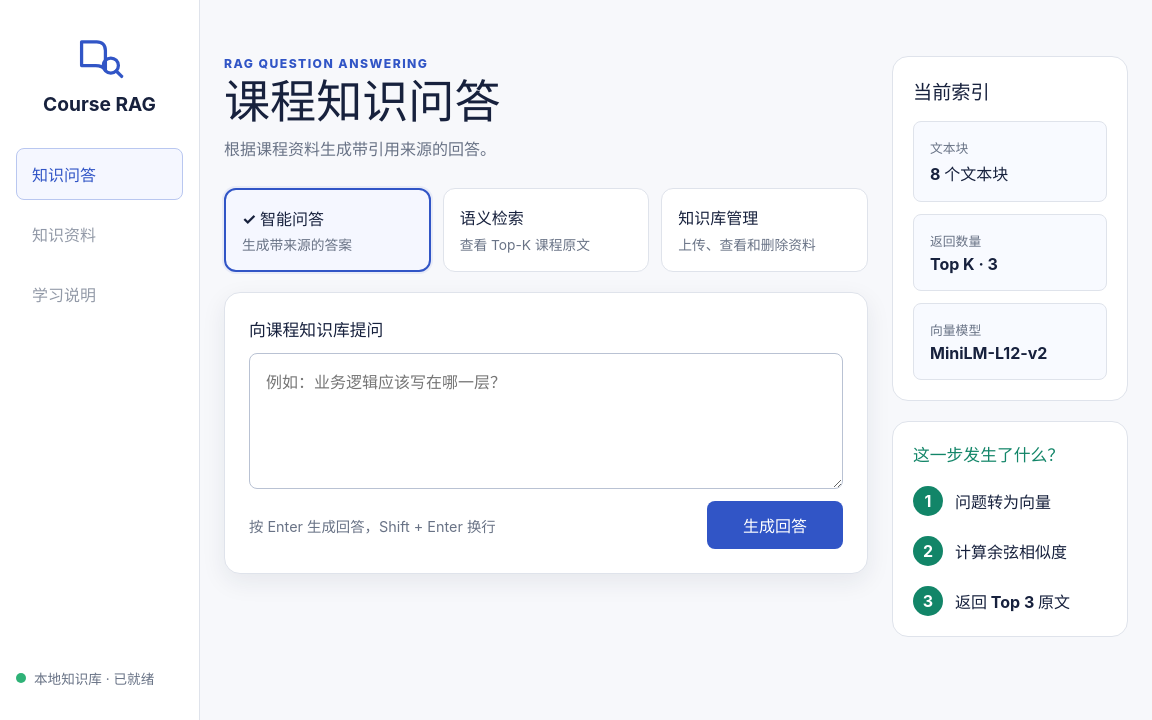
Test: App › shows the 503 guidance and allows switching to retrieval
The width and height of the screenshot is (1152, 720).
Step 1. Type "问题" into the text box labelled "向课程知识库提问" → x=546, y=421, box [249,353,843,489]
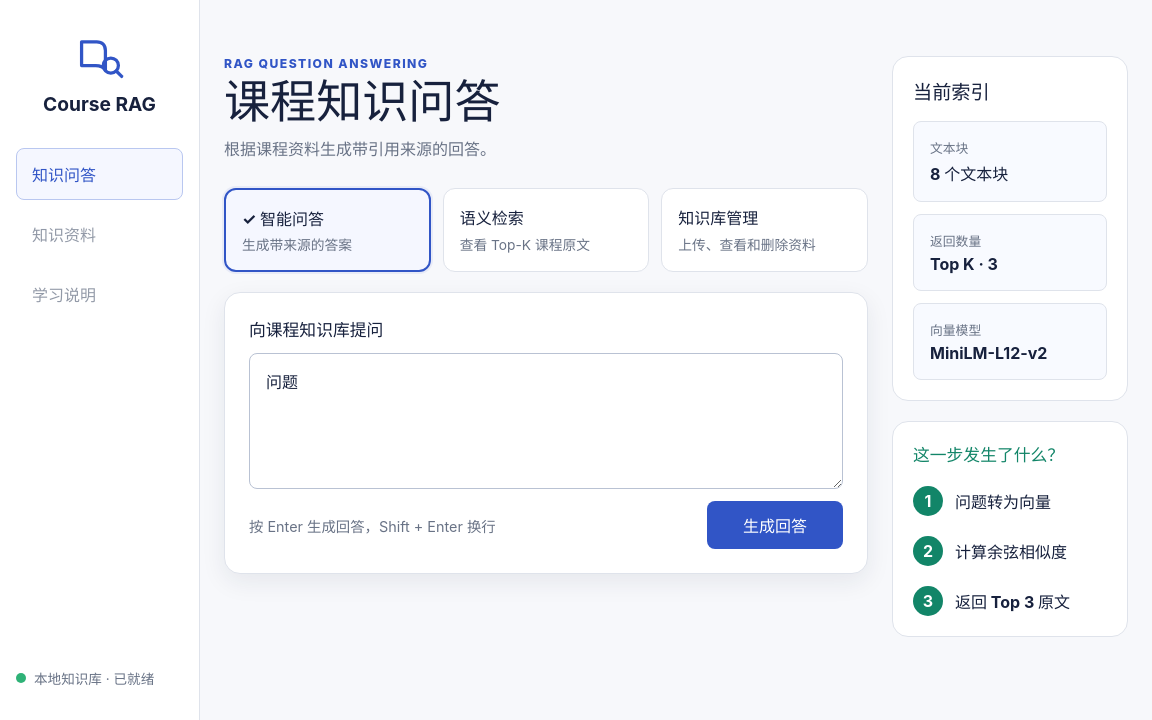
Step 2. Submit the form, box [224,292,868,574]
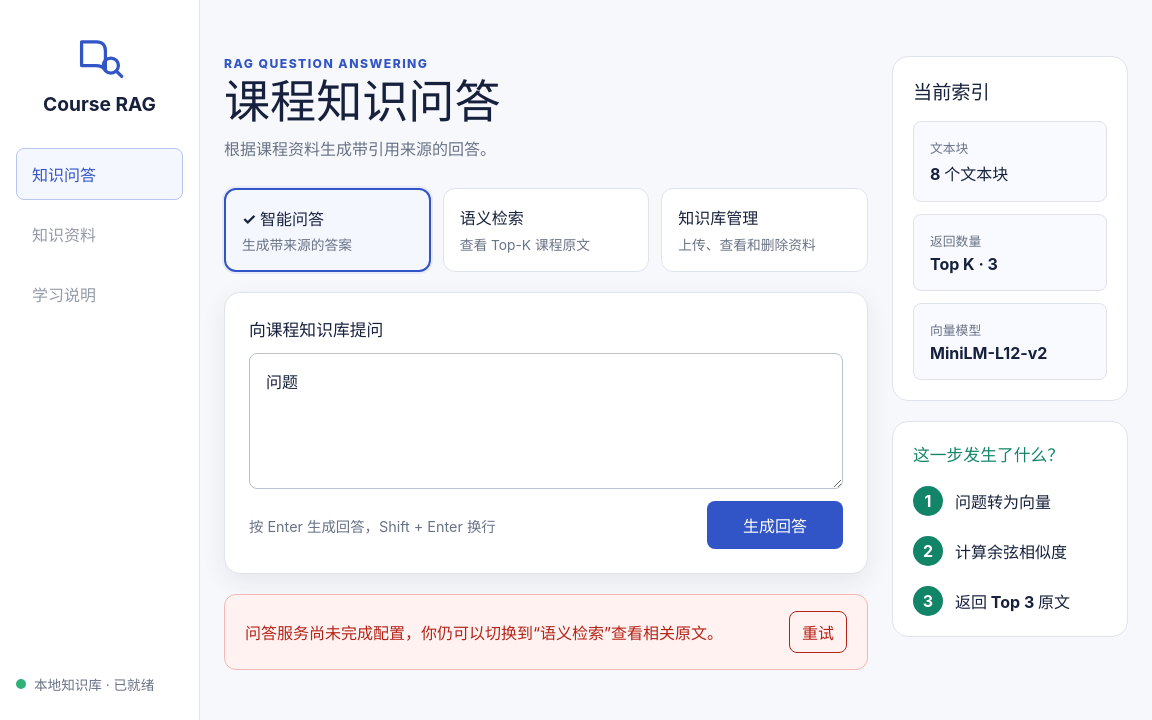
Result: the message "问答服务尚未完成配置，你仍可以切换到“语义检索”查看相关原文。 重试" is shown at [224,594,868,670]
Step 3. Click the button "语义检索 查看 Top-K 课程原文" → x=546, y=230, box [443,188,649,272]
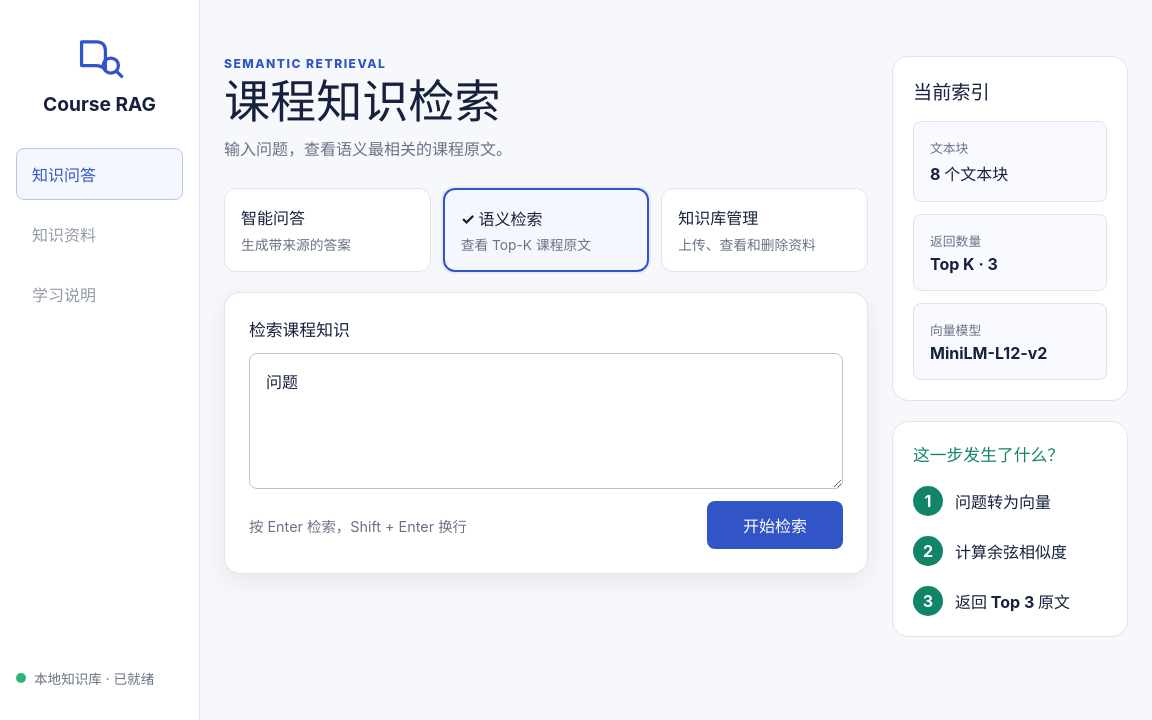
Result: the text "课程知识检索" is shown at [224,73,500,129]
